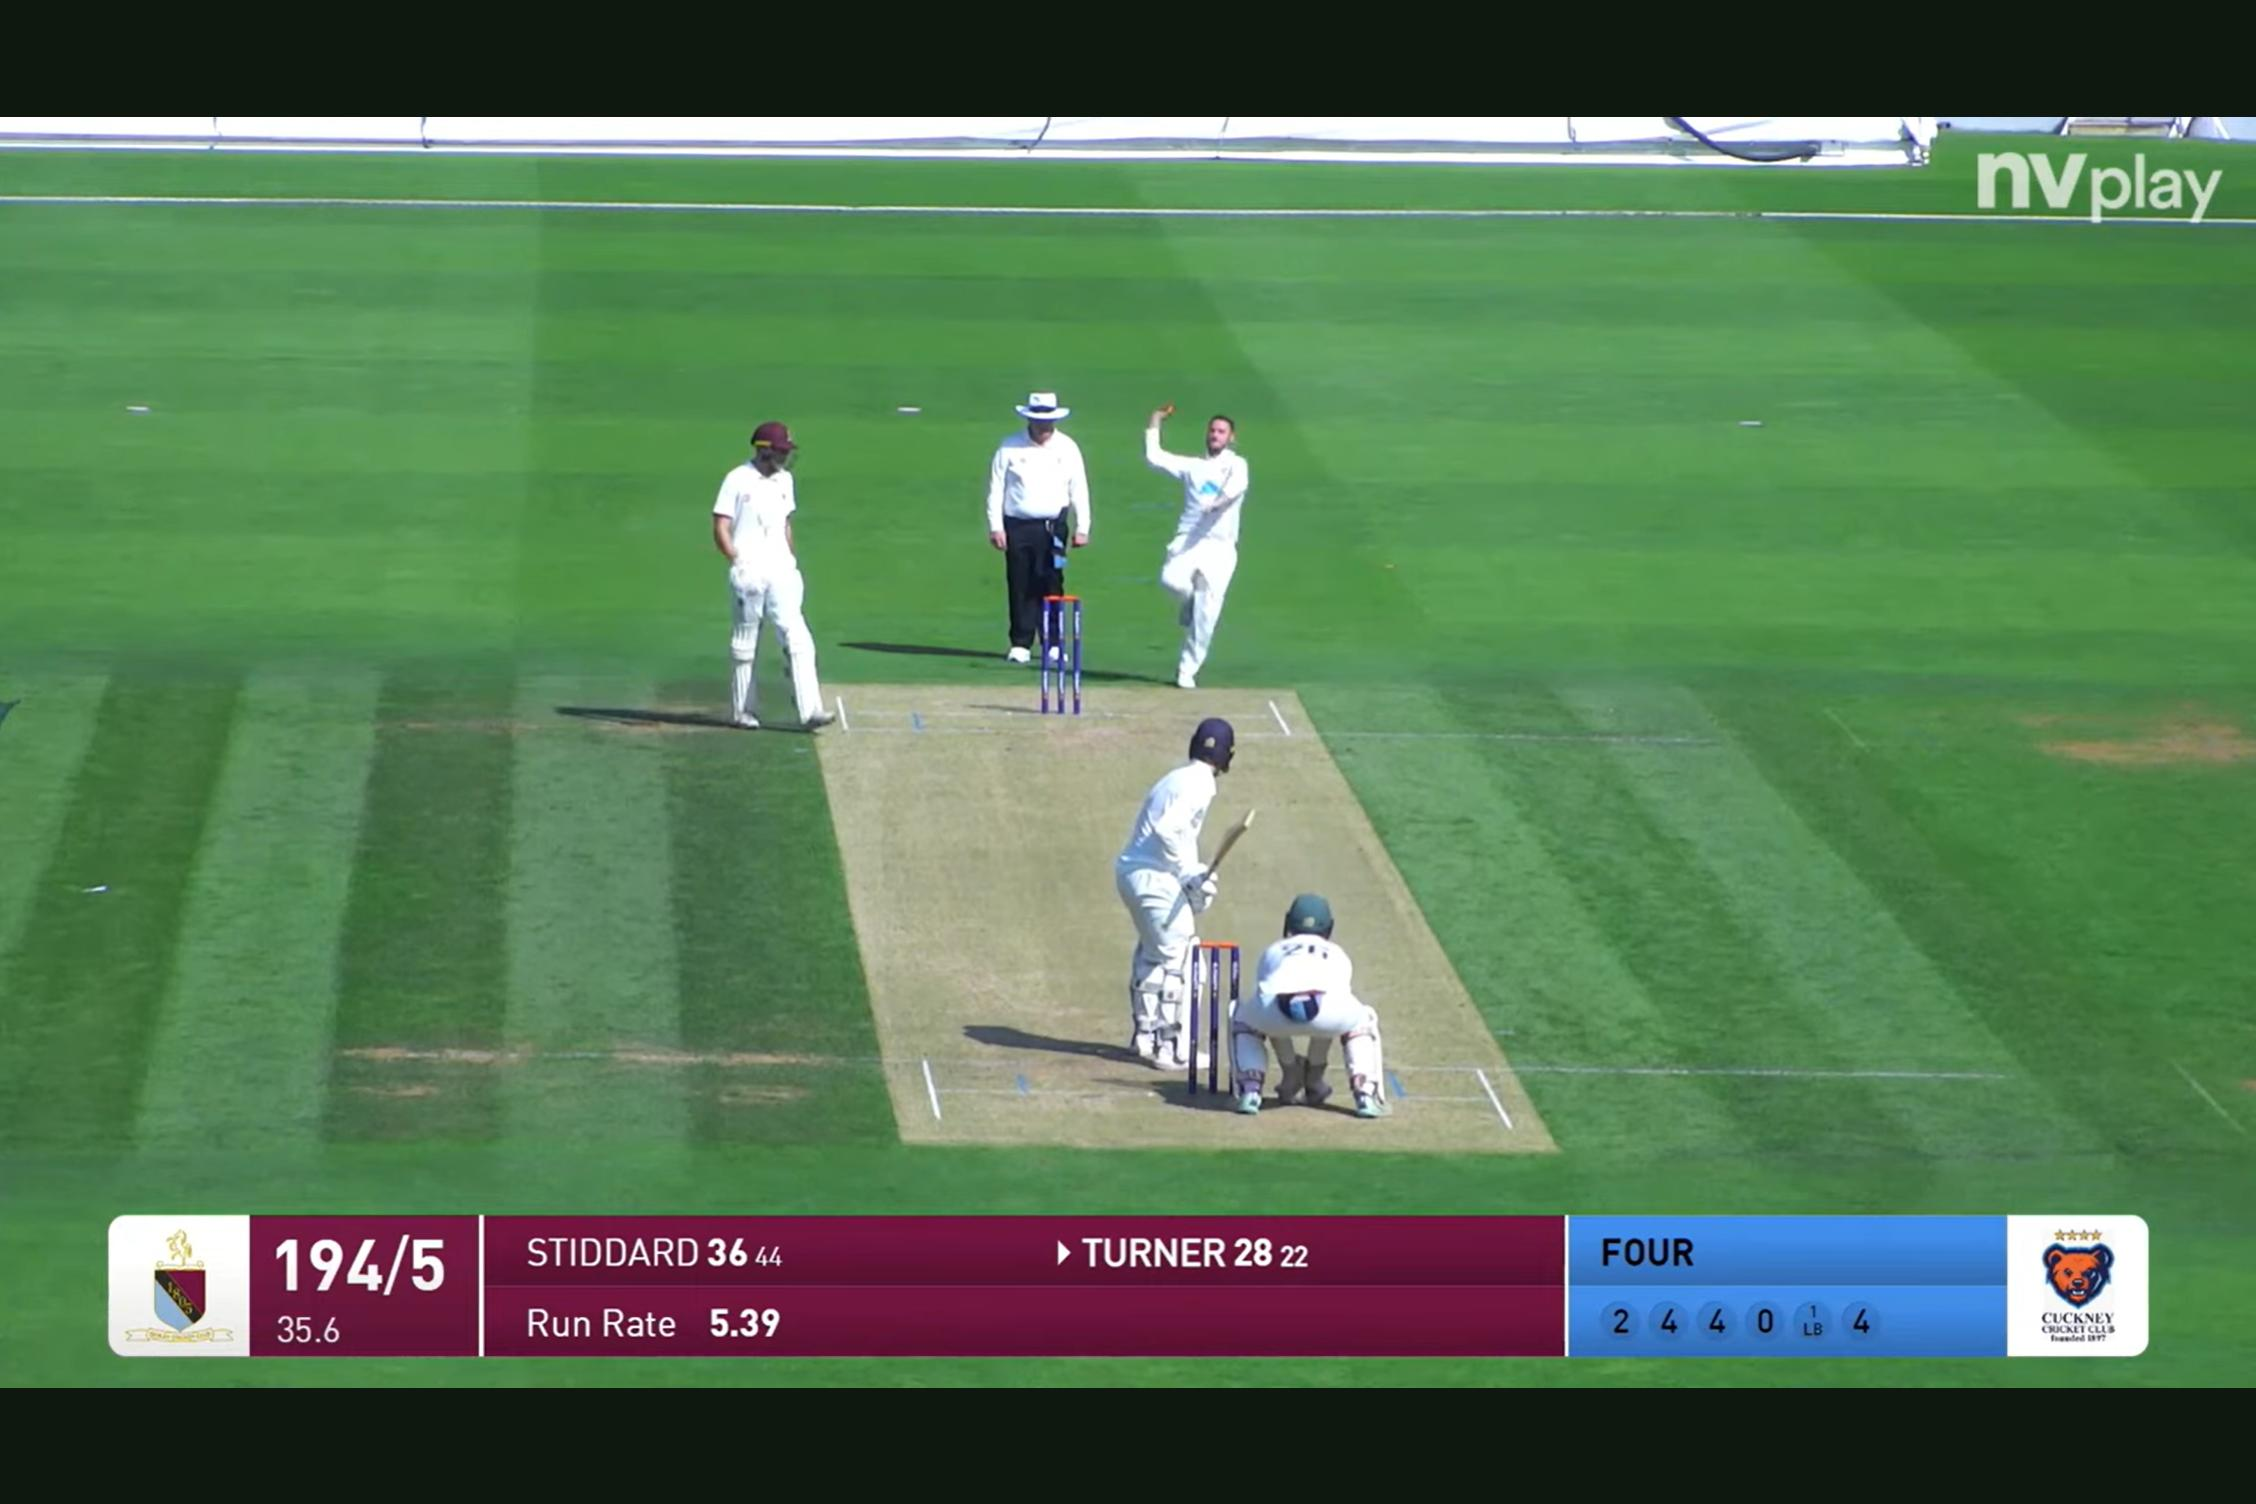batsman: (1098, 708, 1242, 1064)
bowler running in: (1115, 391, 1281, 697)
non striker: (681, 406, 858, 740)
umpire: (969, 373, 1094, 675)
wicket keeper: (1264, 876, 1407, 1123)
